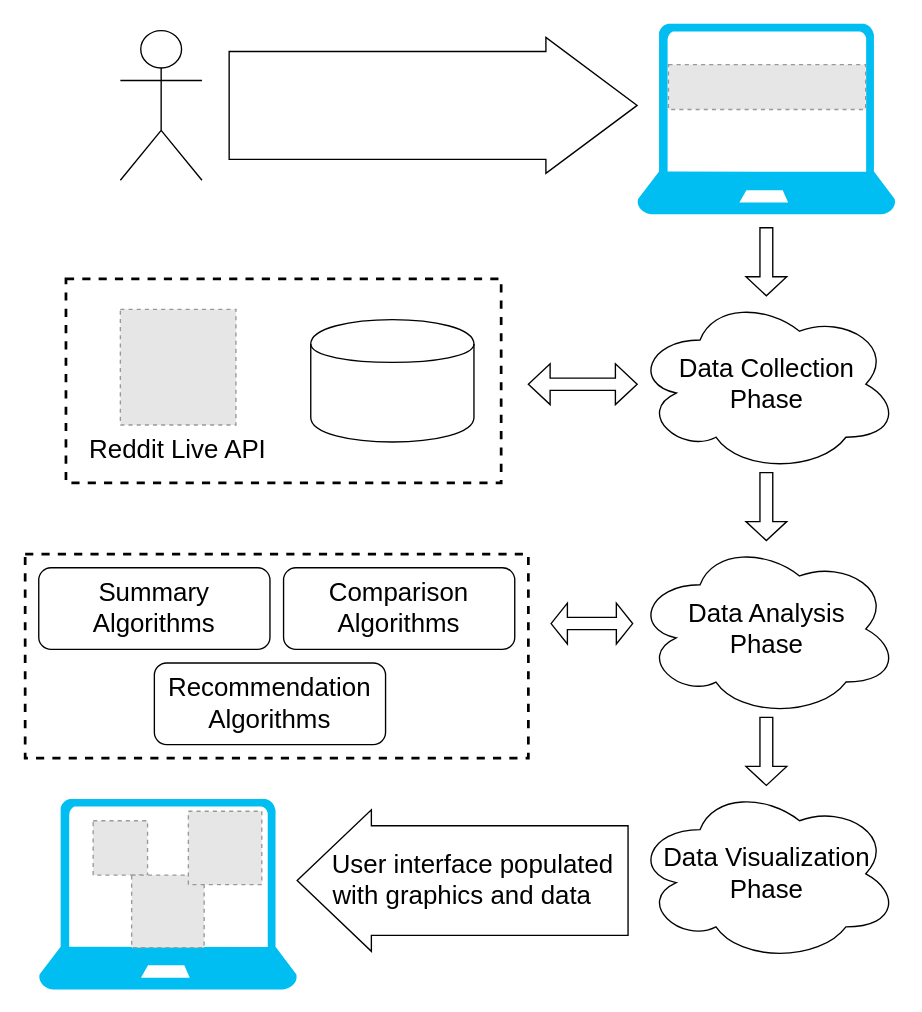
Image size: 922x1012. Some labels were removed from this diagram. Grey dashed boxes stand in for pictures. Here are the shapes that lost their labels. From the top down, the box of each, then its label:
(119, 29, 202, 180): User
(228, 36, 637, 173): Reddit subreddit(s) or user(s) desired for analysis
(309, 318, 474, 442): Database
(23, 552, 529, 759): Flask Application
